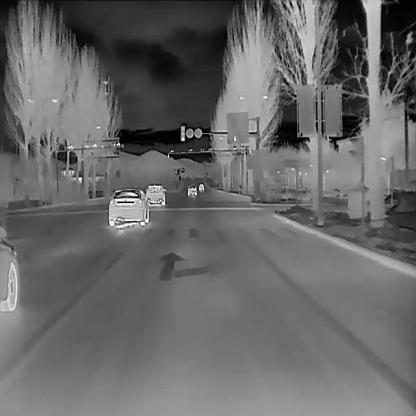car: (107, 186, 150, 226), (143, 183, 167, 205), (186, 184, 196, 196), (198, 183, 204, 190)
